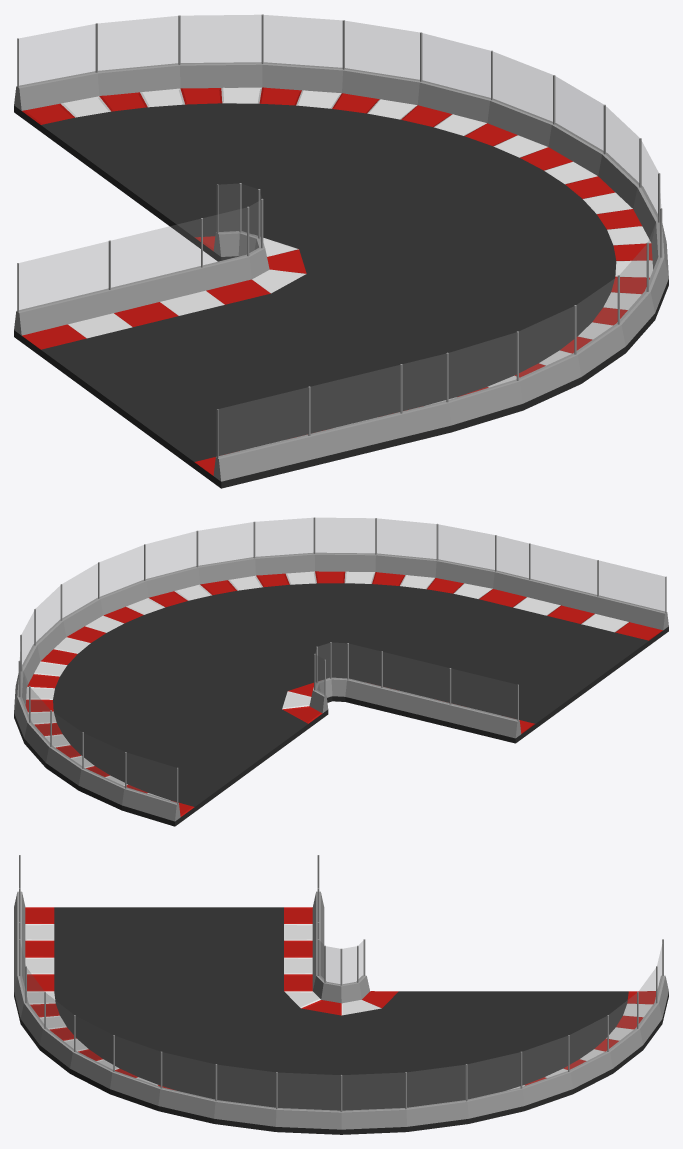
Rendered from track_hairpin_left_borders_low.glb.
The picture shows the model from 3 angles, top to bottom: view 1: azimuth 30°, elevation 25°; view 2: azimuth 150°, elevation 25°; view 3: azimuth 270°, elevation 25°; orthographic projection. The views are drawn at different scales.
Visible parts, largest first — view 1: HairpinLeft.002; view 2: HairpinLeft.002; view 3: HairpinLeft.002.
Boxes of the visible parts, x1,y1,x2,y2 form: HairpinLeft.002: (14, 14, 668, 488); HairpinLeft.002: (14, 517, 668, 826); HairpinLeft.002: (14, 855, 668, 1134).
Bounding box in the file's own units: 18.33 × 2.2 × 22.8.
